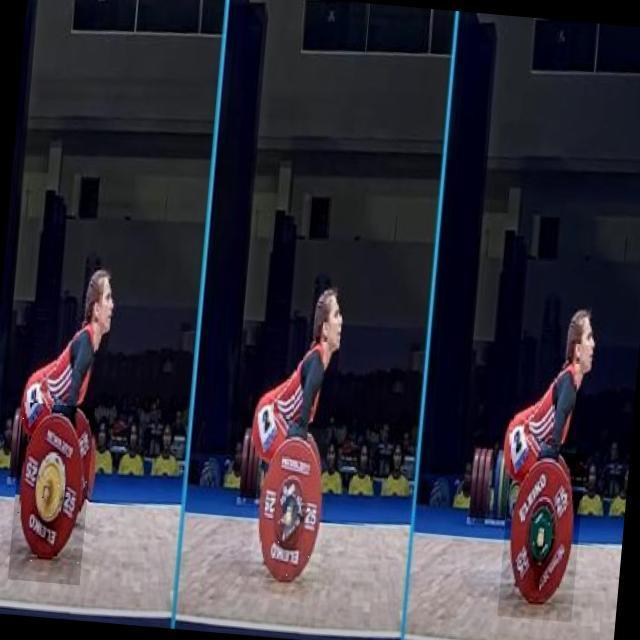barbell: (9, 403, 98, 589), (498, 448, 586, 623), (249, 425, 332, 592)
